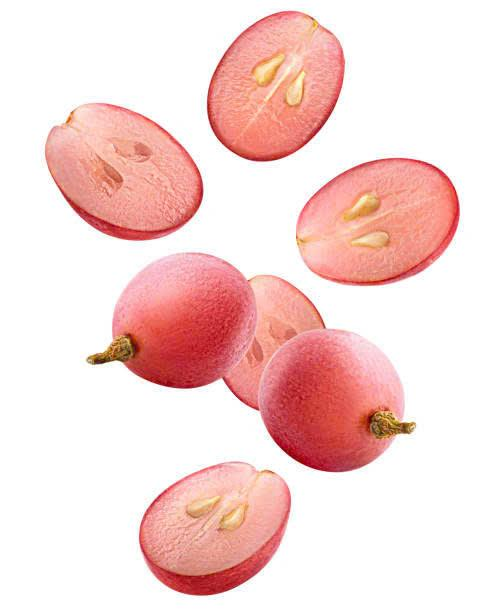grape: (36, 97, 211, 240), (98, 247, 260, 394), (133, 454, 300, 596), (291, 153, 466, 288), (199, 8, 347, 167), (260, 326, 420, 468)
